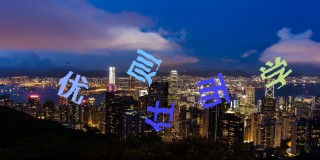仕: (144, 99, 175, 132)
优: (53, 69, 88, 104)
则: (125, 47, 163, 86)
学: (258, 55, 292, 92)
而: (197, 72, 231, 111)
